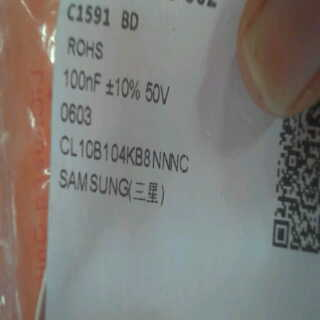100nF: (59, 64, 104, 101)
